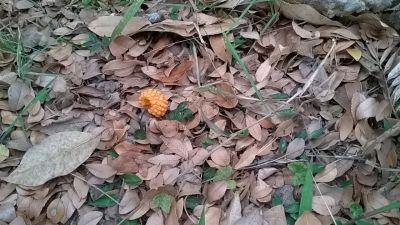eggs: (138, 88, 169, 117)
